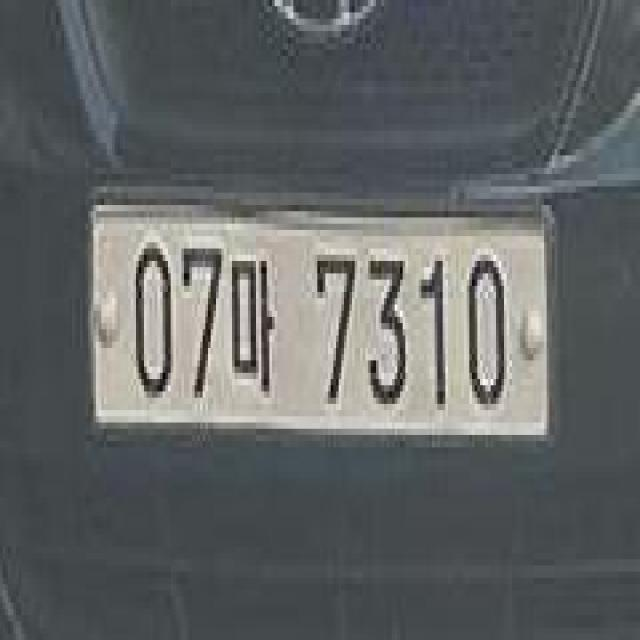illegal_plate: (87, 180, 553, 470)
